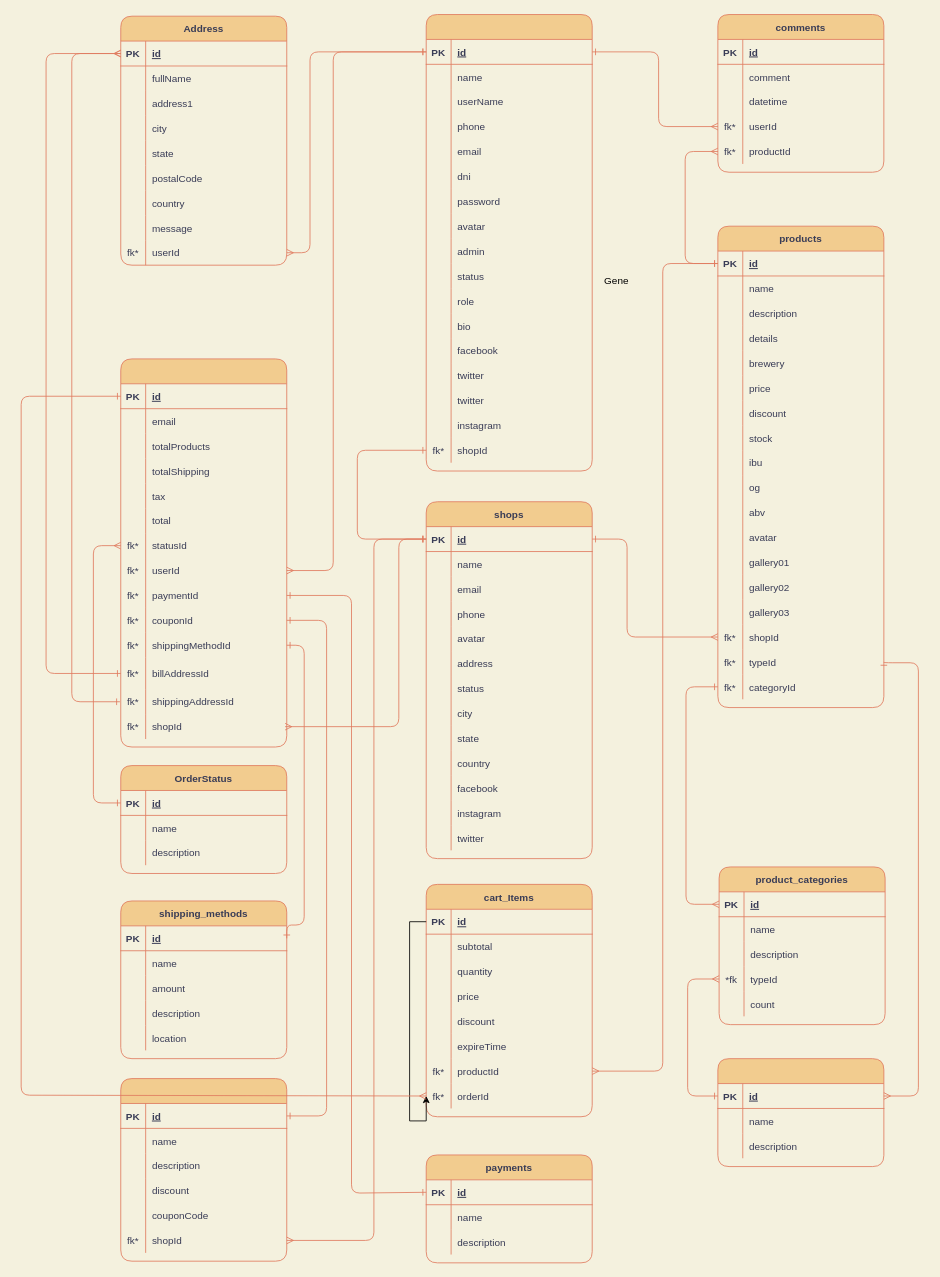
Some shapes in this 940 by 1277 pixel diagram are drawn without their labels. Each missing label, with the box of its shape:
coupons: (120, 1078, 287, 1261)
orders: (120, 358, 287, 747)
product_types: (717, 1058, 884, 1167)
users: (425, 14, 592, 471)
